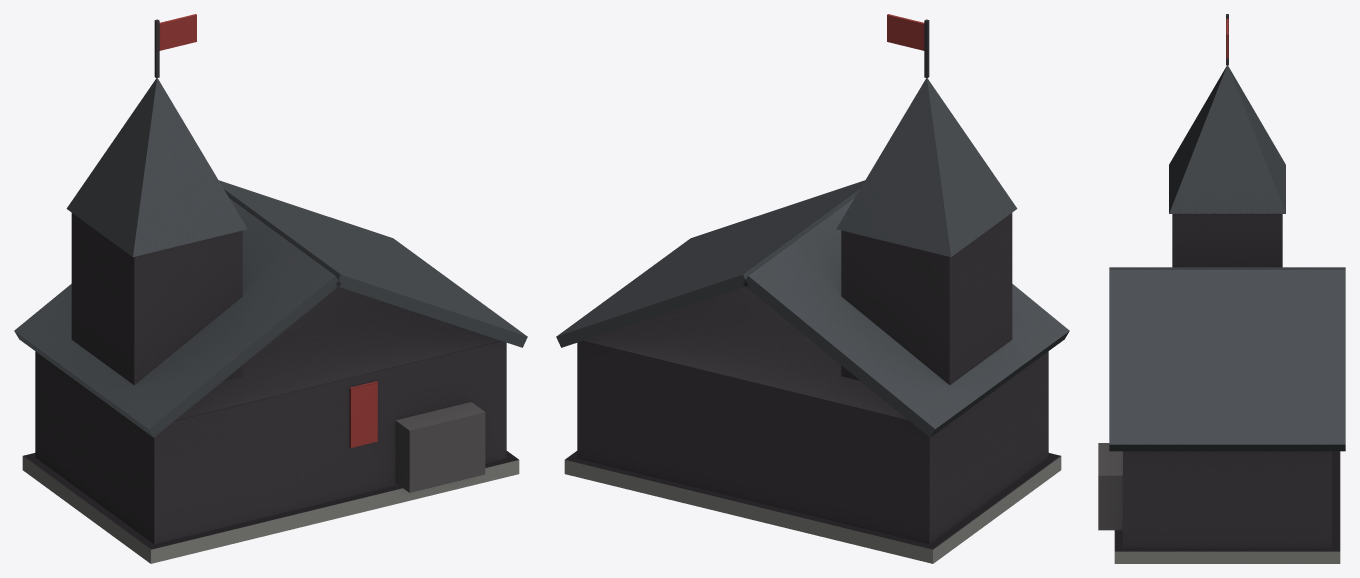
The model's file is BLD_townhall.fbx.
The picture shows the model from 3 angles, left to right: view 1: azimuth 30°, elevation 25°; view 2: azimuth 150°, elevation 25°; view 3: azimuth 270°, elevation 25°; orthographic projection. The views are drawn at different scales.
Visible parts, largest first — view 1: BLD_townhall; view 2: BLD_townhall; view 3: BLD_townhall.
Part boxes in pixels (x1,y1,x2,y2): BLD_townhall: (14, 14, 527, 563); BLD_townhall: (556, 14, 1069, 563); BLD_townhall: (1098, 14, 1345, 563).
Size of the model in its own units: 140 by 169 by 90.
